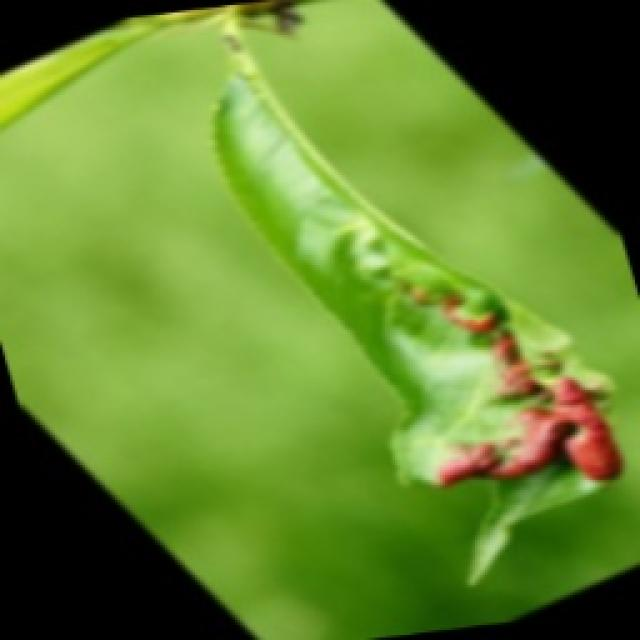peach_leaf_curl: (435, 372, 623, 488)
